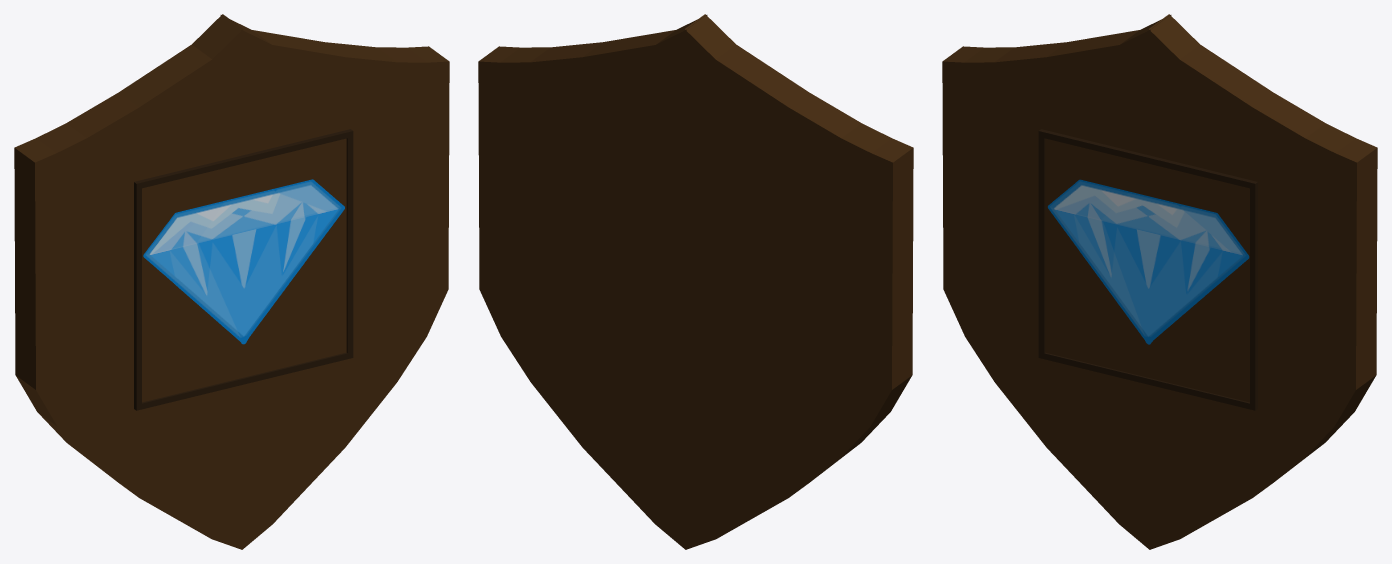
The model's file is Diamond_crest.fbx.
The picture shows the model from 3 angles, left to right: view 1: azimuth 30°, elevation 25°; view 2: azimuth 150°, elevation 25°; view 3: azimuth 330°, elevation 25°; orthographic projection.
Visible parts, largest first — view 1: Cube.001; view 2: Cube.001; view 3: Cube.001.
Part boxes in pixels (left/top/right/bottom): Cube.001: left=14, top=14, right=449, bottom=549; Cube.001: left=478, top=14, right=913, bottom=549; Cube.001: left=942, top=14, right=1377, bottom=549.
Size of the model in its own units: 50 by 60 by 4.85.
Materials: 3 (1 with a texture image).
